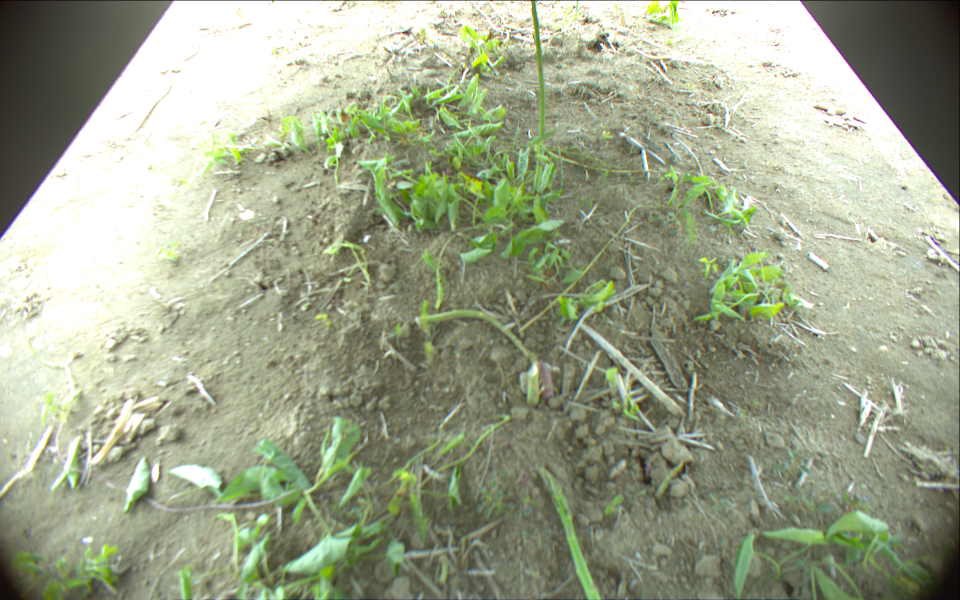aspa: (537, 467, 602, 600), (415, 308, 539, 363), (528, 1, 545, 196)
